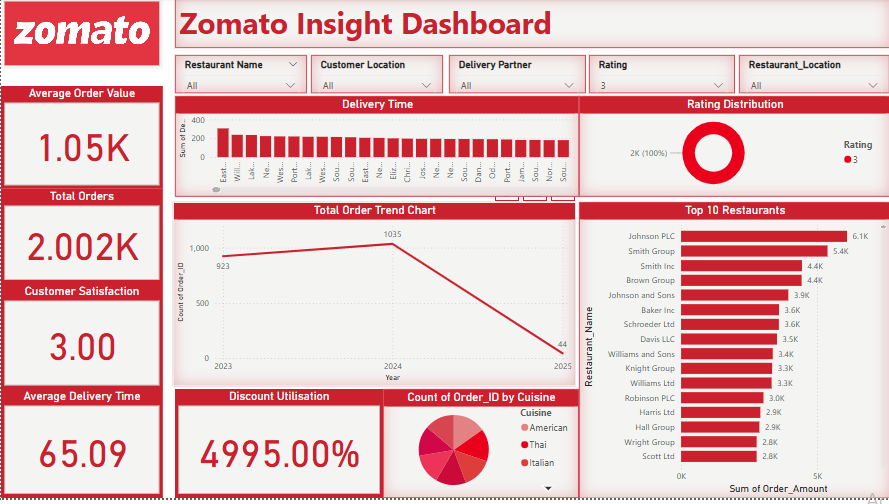

The page's visual inventory and layout, read from the dashboard file:
{"tool":"powerbi","page":{"name":"Page 1","canvas":[1280,720],"ordinal":0},"visuals":[{"type":"cardVisual","title":"Total Orders","fields":{"Data":["Count(Sheet1.Order_ID)"]},"box":[0,275,233.3,136.7],"z":0},{"type":"cardVisual","title":"Average Delivery Time","fields":{"Data":["Avg(Sheet1.Delivery_Time_Minutes)"]},"box":[0,563.3,233.3,156.7],"z":1000},{"type":"cardVisual","title":"Average Order Value","fields":{"Data":["Avg(Sheet1.Order_Amount)"]},"box":[0,126.7,233.3,148.3],"z":2000},{"type":"cardVisual","title":"Customer Satisfaction","fields":{"Data":["Avg(Sheet1.Rating)"]},"box":[0,411.7,233.3,151.7],"z":3000},{"type":"cardVisual","title":"Discount Utilisation","fields":{"Data":["Sheet1.Discount Utilization(%)"]},"box":[250,563.3,300,156.7],"z":4000},{"type":"lineChart","title":"Total Order Trend Chart","fields":{"Category":["Sheet1.Order_Date.Variation.Date Hierarchy.Year"],"Y":["CountNonNull(Sheet1.Order_ID)"]},"box":[248.3,293.3,580,265],"z":5000},{"type":"columnChart","title":"Delivery Time","fields":{"Category":["Sheet1.Customer_Location"],"Y":["Sum(Sheet1.Delivery_Time_Minutes)"]},"box":[250,141.7,581.7,145],"z":6000},{"type":"clusteredBarChart","title":"Top 10 Restaurants","fields":{"Category":["Sheet1.Restaurant_Name"],"Y":["Sum(Sheet1.Order_Amount)"]},"box":[831.7,293.3,448.3,426.7],"z":7000},{"type":"donutChart","title":"Rating Distribution","fields":{"Y":["CountNonNull(Sheet1.Order_ID)"],"Category":["Sheet1.Rating"]},"box":[831.7,141.7,448.3,145],"z":8000},{"type":"pieChart","fields":{"Category":["Sheet1.Cuisine"],"Y":["CountNonNull(Sheet1.Order_ID)"]},"box":[550,563.3,281.7,156.7],"z":9000},{"type":"textbox","box":[250,0,1030,71.7],"z":10000},{"type":"image","box":[0,0,233.3,126.7],"z":11000},{"type":"slicer","fields":{"Values":["Sheet1.Restaurant_Name"]},"box":[250,81.7,190,55],"z":12000},{"type":"slicer","fields":{"Values":["Sheet1.Customer_Location"]},"box":[446.7,81.7,190,55],"z":13000},{"type":"slicer","title":"Delivery Partner","fields":{"Values":["Sheet1.Delivery_Partner"]},"box":[645,81.7,196.7,55],"z":14000},{"type":"slicer","fields":{"Values":["Sheet1.Rating"]},"box":[846.7,81.7,210,55],"z":15000},{"type":"slicer","fields":{"Values":["Sheet1.Restaurant_Location"]},"box":[1063.3,81.7,216.7,55],"z":16000},{"type":"image","box":[903.3,6.7,363.3,56.7],"z":16001}]}

Visuals, with their boxes in screenshot pixels (x1, y1, x2, y2), scaled from the page's 1280x720 canvas onto the 889x504 screenshot:
"Total Orders" cardVisual: 0 192 162 288
"Average Delivery Time" cardVisual: 0 394 162 503
"Average Order Value" cardVisual: 0 89 162 192
"Customer Satisfaction" cardVisual: 0 288 162 394
"Discount Utilisation" cardVisual: 174 394 382 503
"Total Order Trend Chart" lineChart: 172 205 575 391
"Delivery Time" columnChart: 174 99 578 201
"Top 10 Restaurants" clusteredBarChart: 578 205 888 503
"Rating Distribution" donutChart: 578 99 888 201
pieChart - Sheet1.Cuisine x CountNonNull(Sheet1.Order_ID): 382 394 578 503
textbox: 174 0 888 50
image: 0 0 162 89
slicer - Sheet1.Restaurant_Name: 174 57 306 96
slicer - Sheet1.Customer_Location: 310 57 442 96
"Delivery Partner" slicer: 448 57 585 96
slicer - Sheet1.Rating: 588 57 734 96
slicer - Sheet1.Restaurant_Location: 738 57 888 96
image: 627 5 880 44
